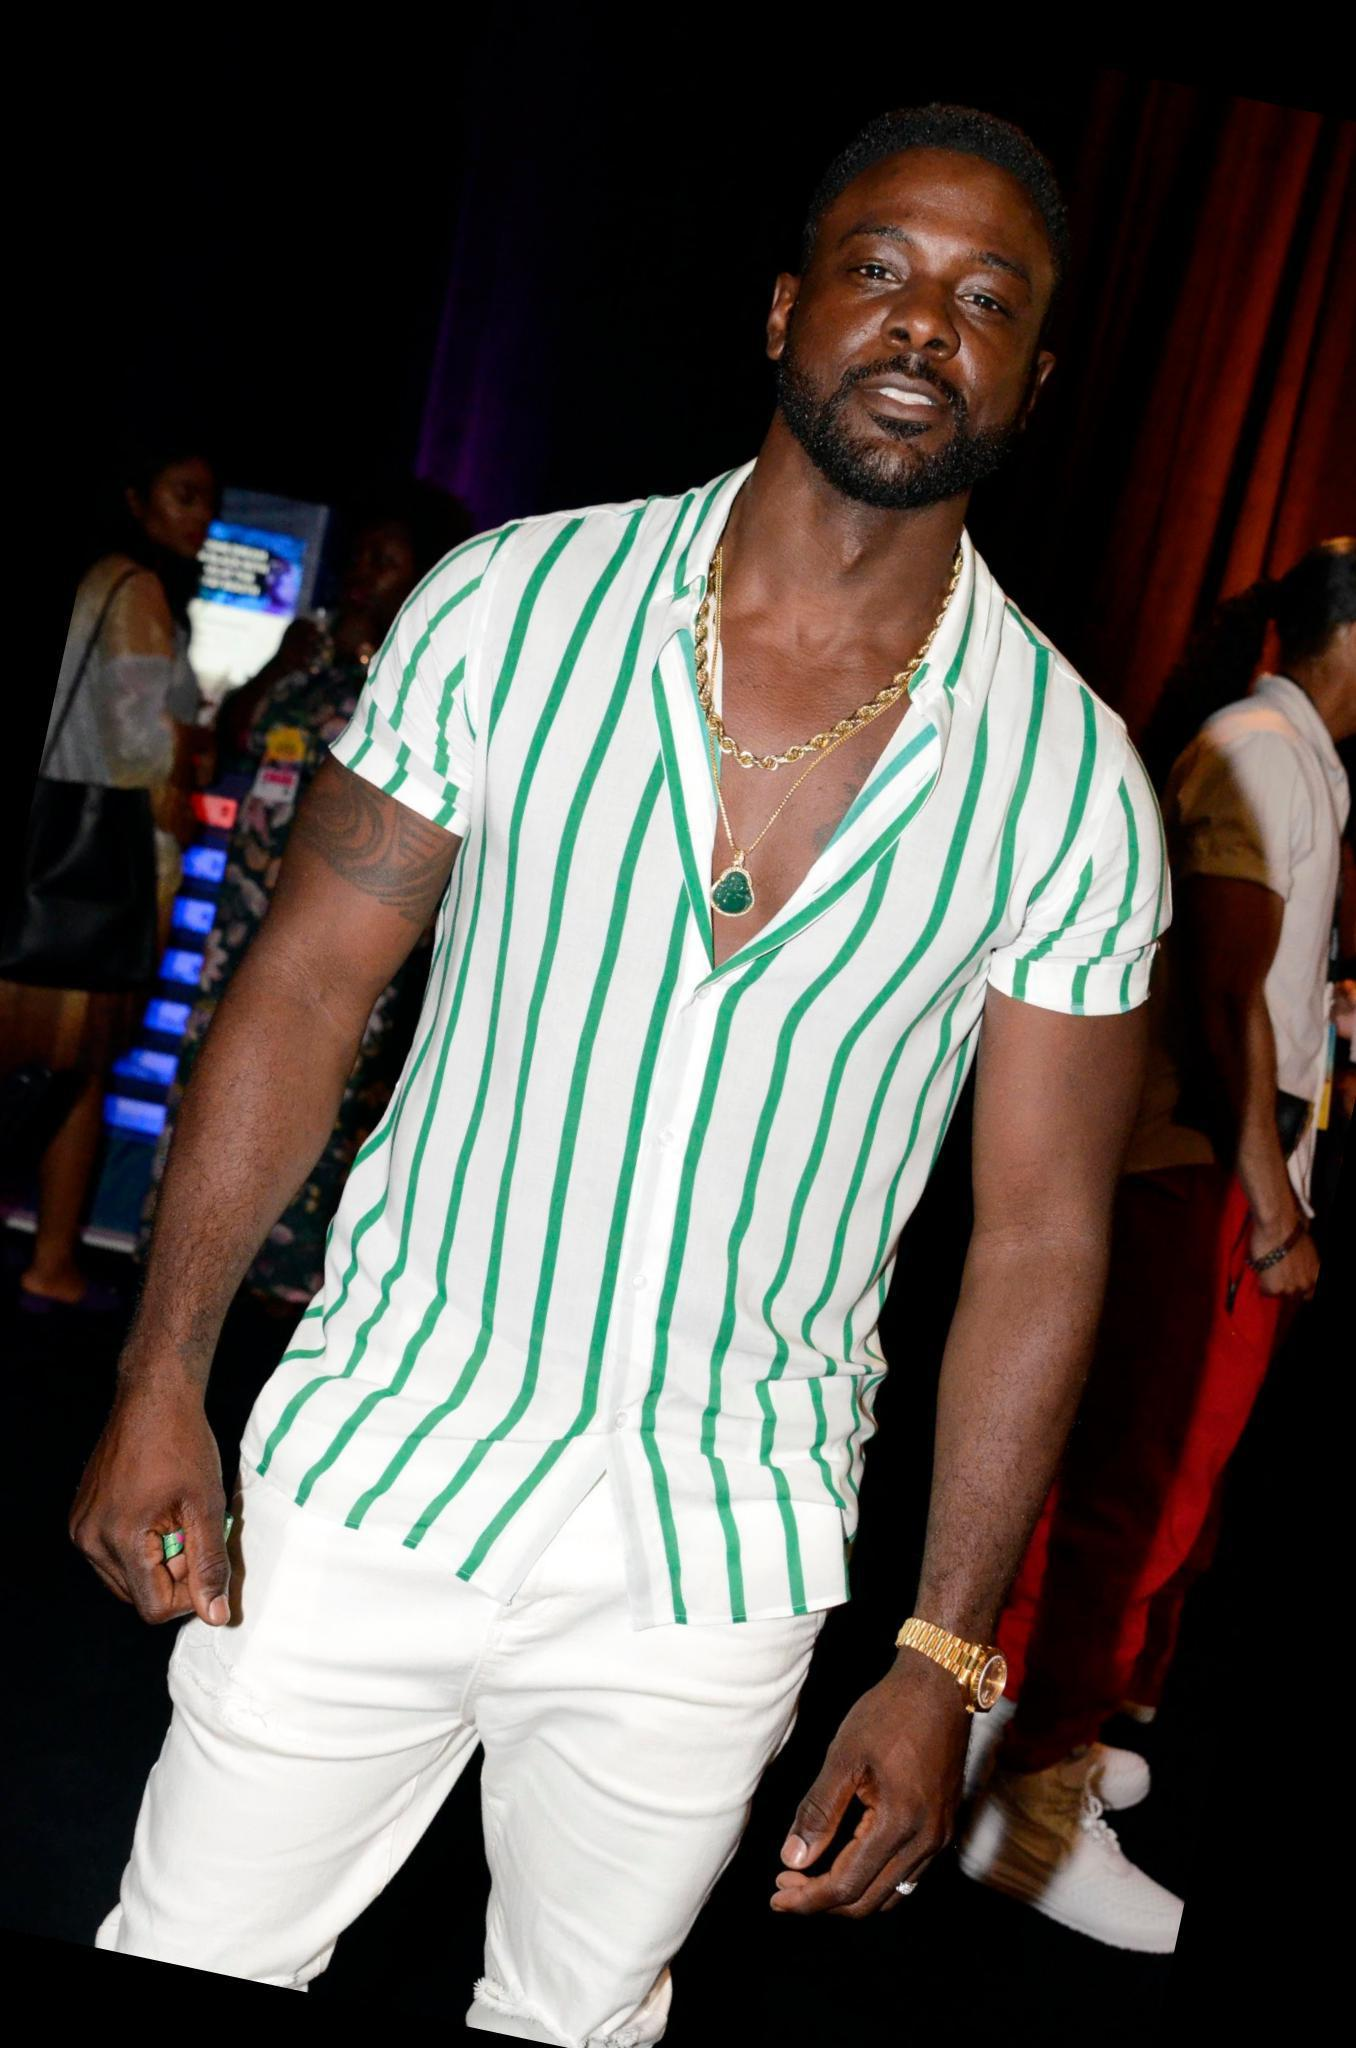Sober: (817, 182, 1034, 469)
